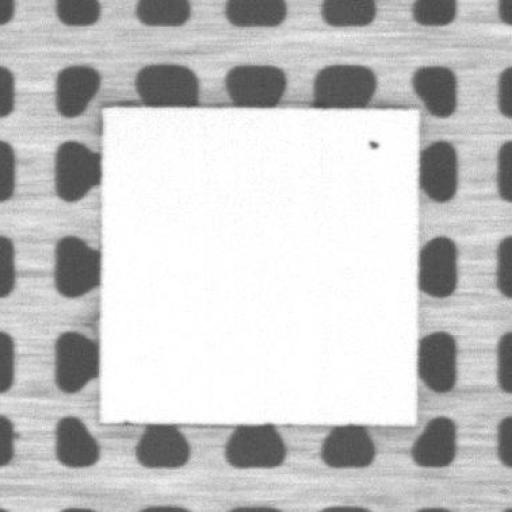DIE_INK: (367, 135, 379, 151)
